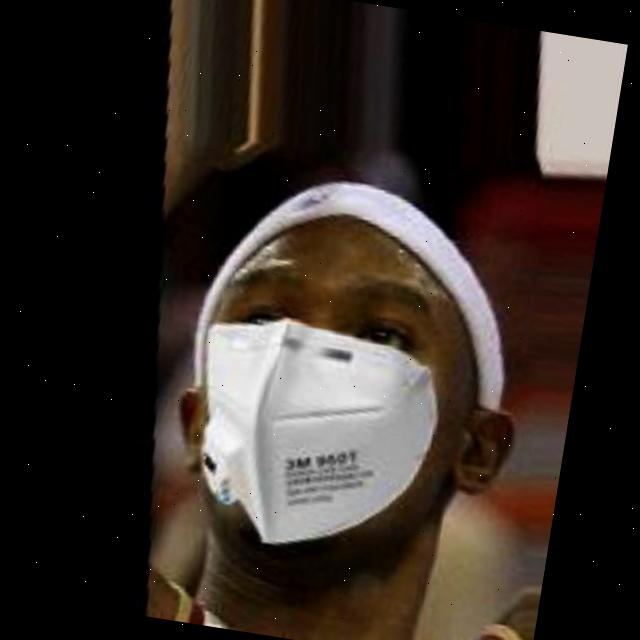suspicion: (111, 142, 584, 624)
